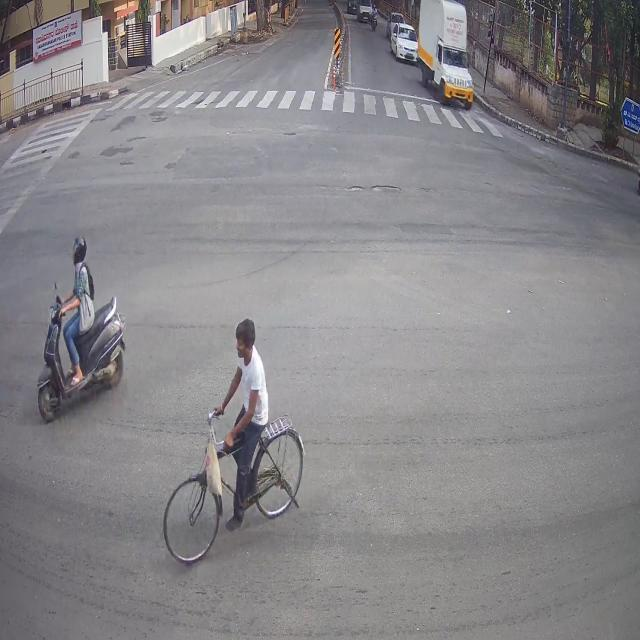Bicycle: (183, 354, 312, 570)
Car: (394, 15, 420, 64)
LCV: (417, 2, 475, 105)
Two-wheelers: (21, 252, 132, 421)
